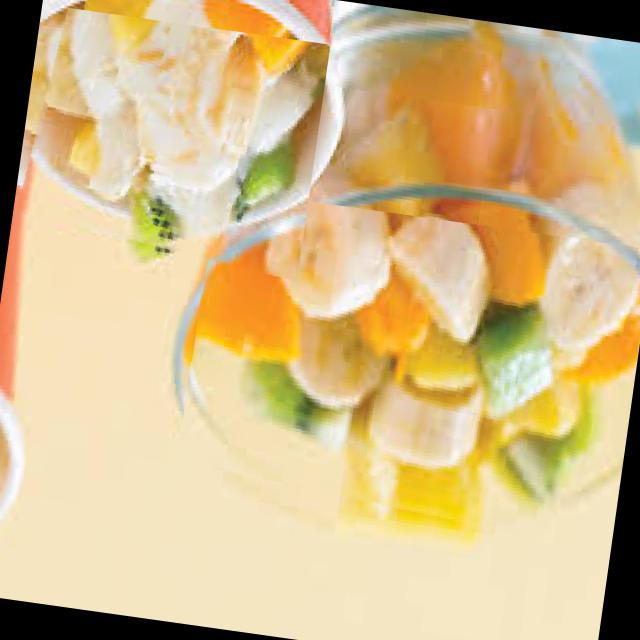Organic: (170, 186, 640, 551), (12, 3, 330, 280)
